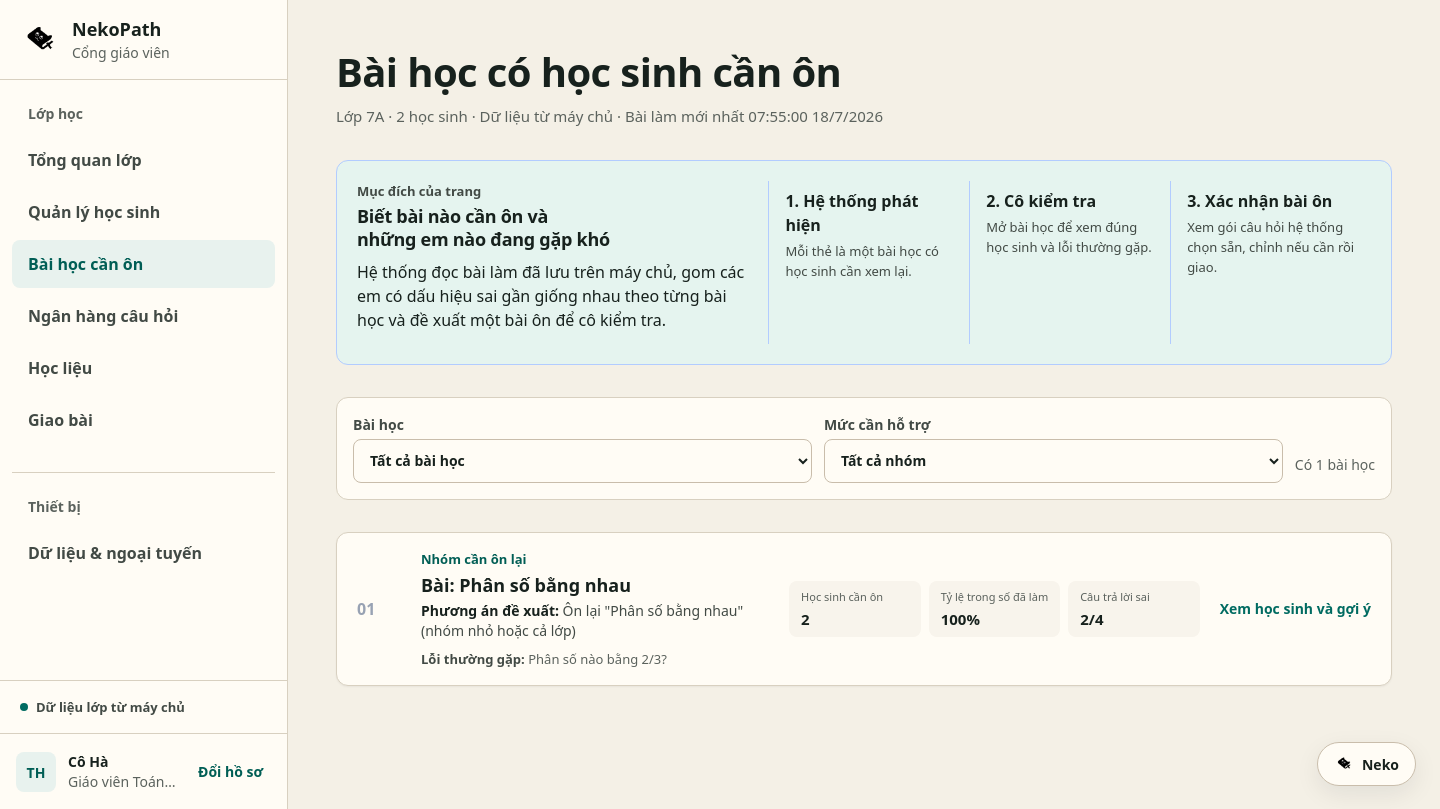
Test: NekoPath MVP entry and shell (class-roll dropdown auth, stubbed transport) › opens a support group on a dedicated detail page
Expected: the heading "Bài học có học sinh cần ôn" is shown, 336,44 -> 841,99
Expected: the heading "Bài: Phân số bằng nhau" is shown, 421,573 -> 631,597
Click the link with aria-label "Xem học sinh và gợi ý ôn bài Phân số bằng nhau".
click(864, 609)  # box 337,533 -> 1391,685
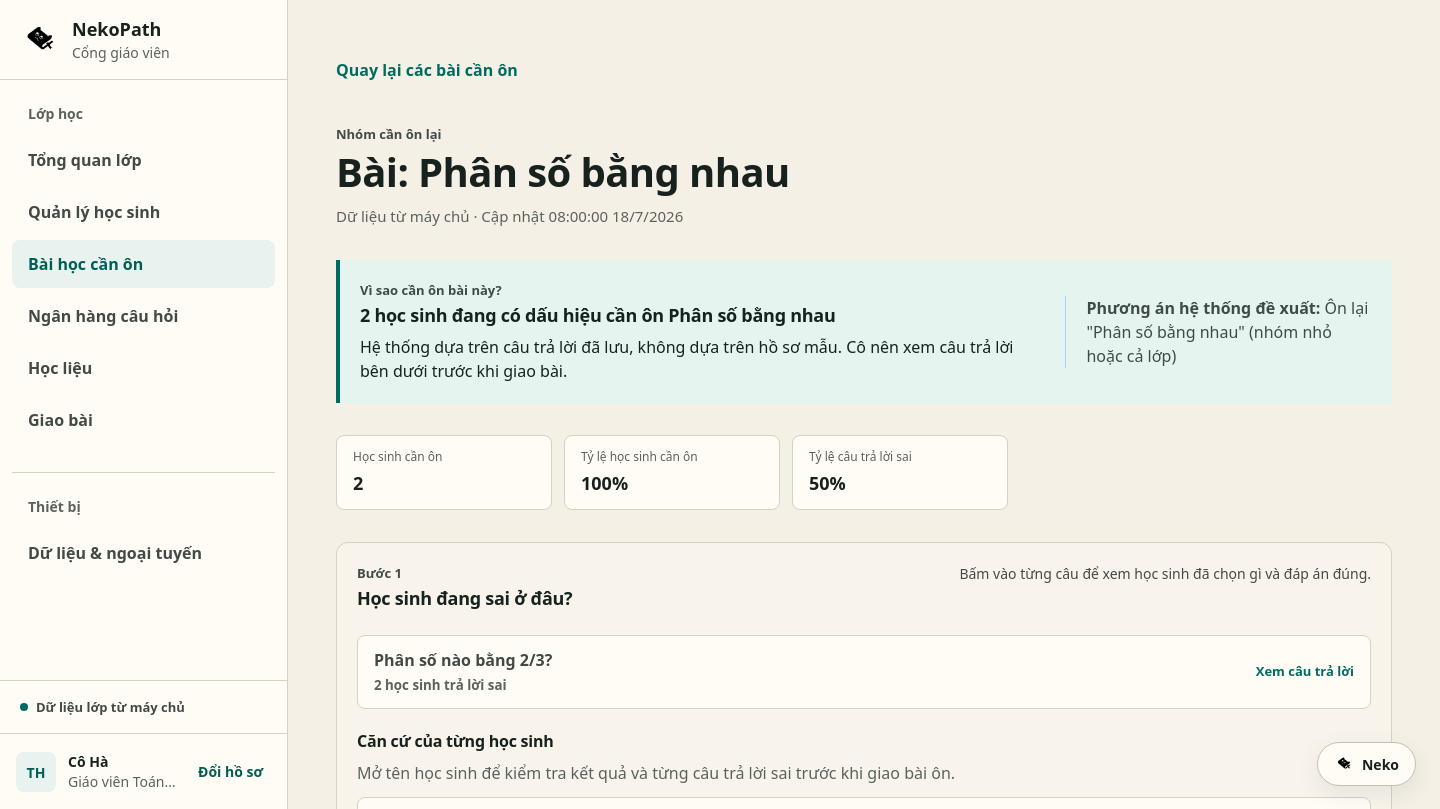
Expected: the heading "Bài: Phân số bằng nhau" is shown, 336,144 -> 790,199
Expected: the link "Quay lại các bài cần ôn" is shown, 336,59 -> 518,81
Expected: the heading "Học sinh đang sai ở đâu?" is shown, 357,587 -> 572,611
Click the text "Xem câu trả lời".
click(1305, 672)  # box 1256,662 -> 1354,682
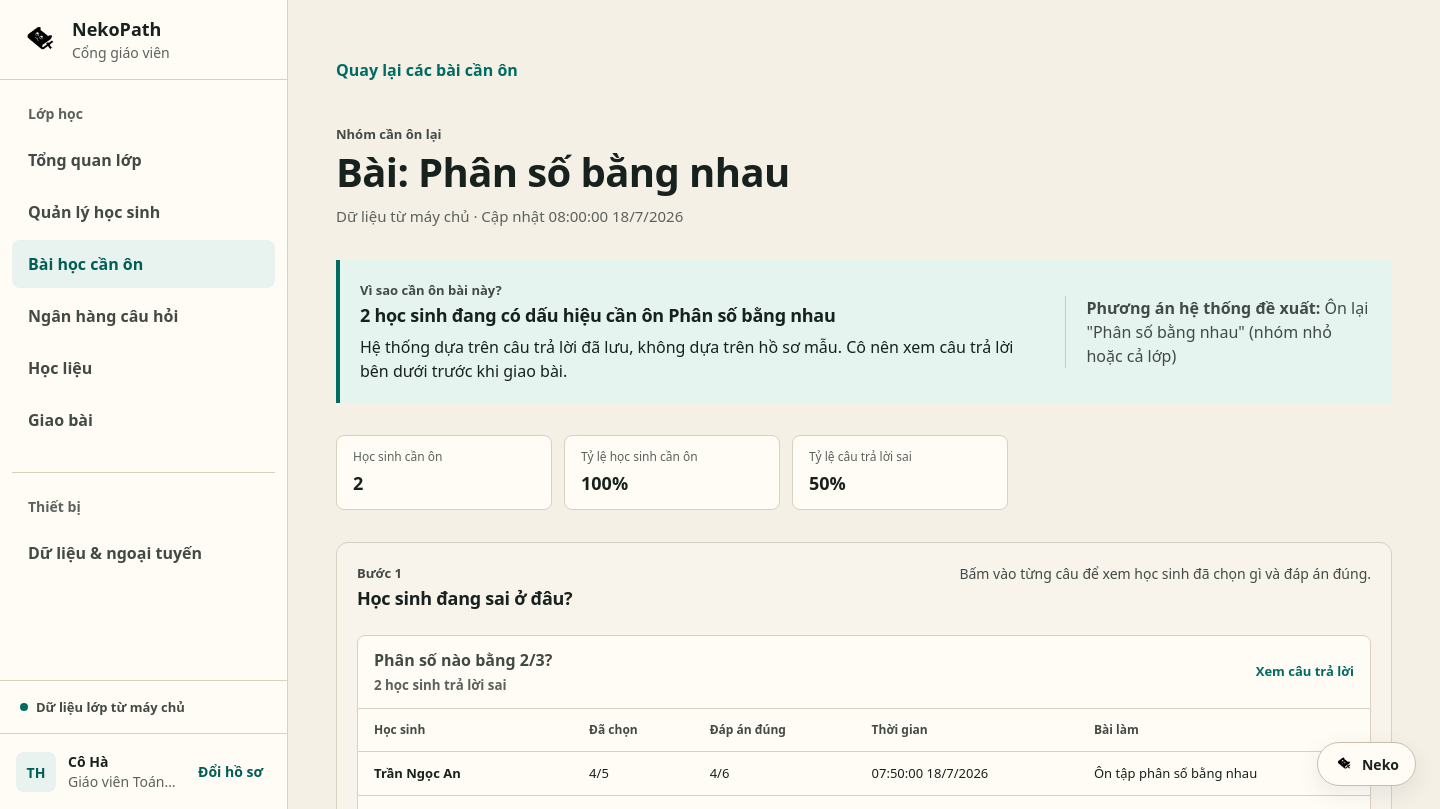
Expected: the column heading "Đã chọn" is shown, 573,709 -> 694,751
Expected: the cell "4/5" is shown, 573,751 -> 694,796
Expected: the cell "4/6" next to "4/5" is shown, 694,751 -> 856,796
